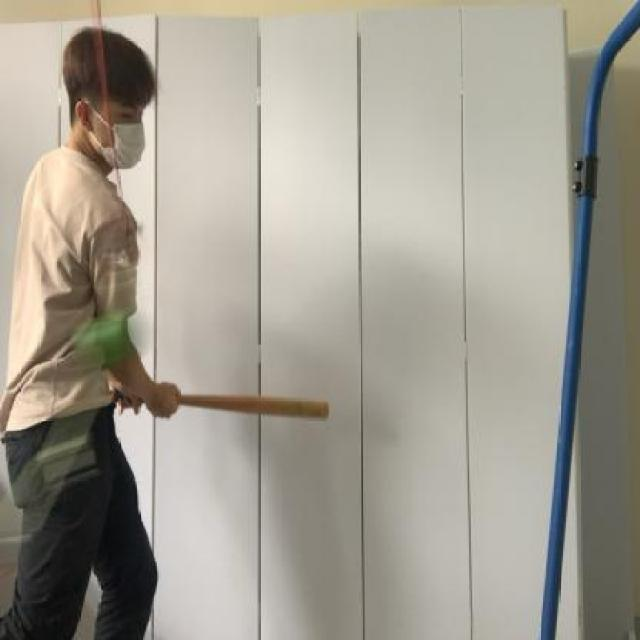baseball: (75, 307, 139, 365)
